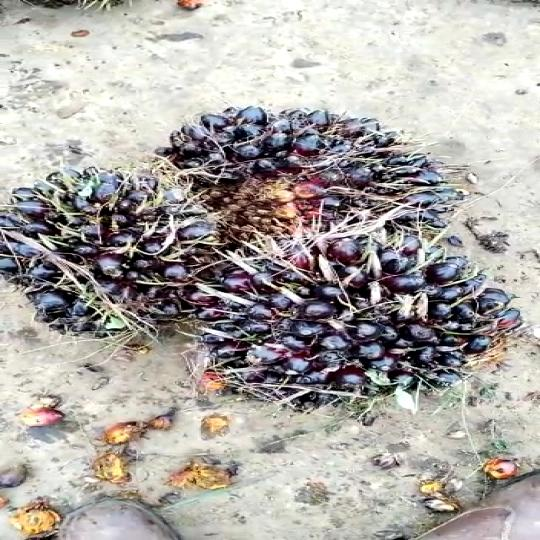mentah: (158, 239, 529, 414), (167, 102, 473, 241), (1, 157, 232, 334)
